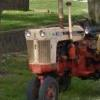Tractor: (11, 14, 100, 85)
